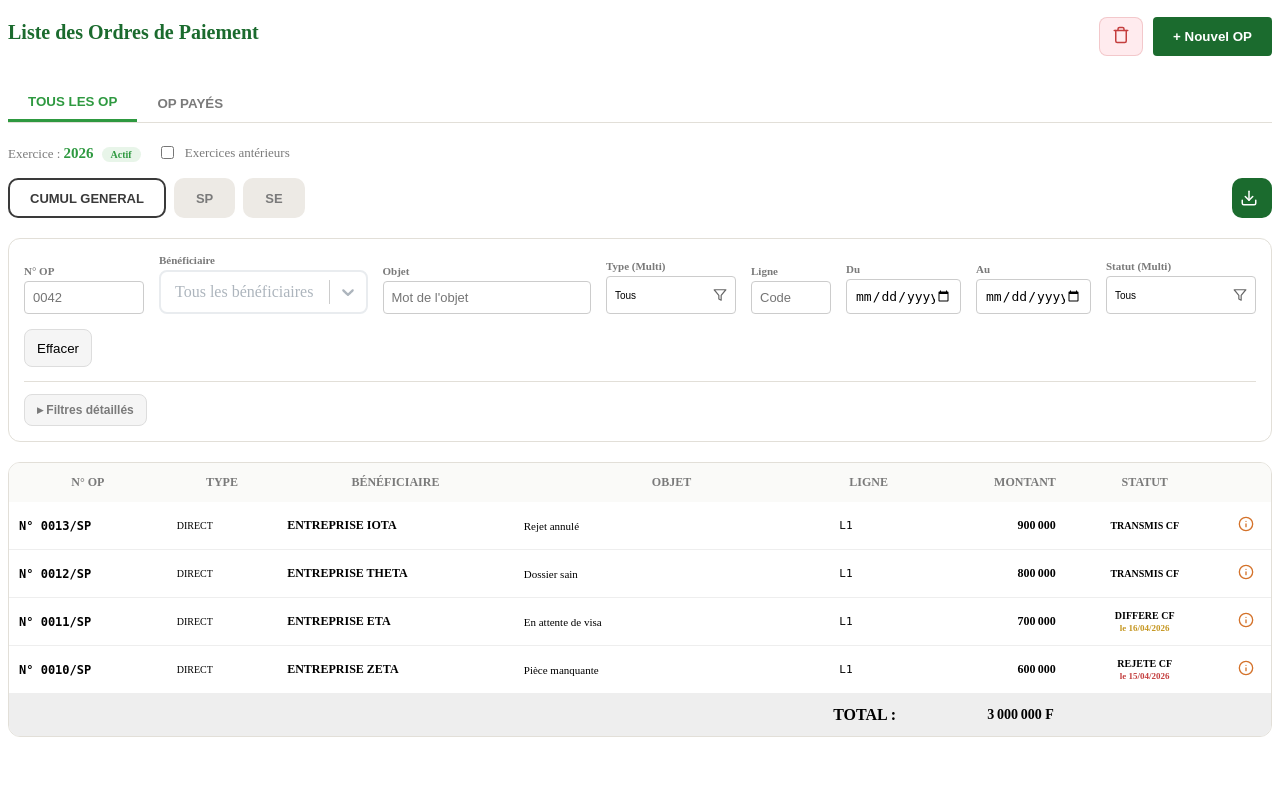
it: Liste OP — la date du rejet et du différé › le suivi détaillé montre la trace d'un rejet annulé
The image size is (1280, 800).
Click the button titled "Suivi détaillé".
click(1246, 526)  # box [1234, 512, 1258, 539]
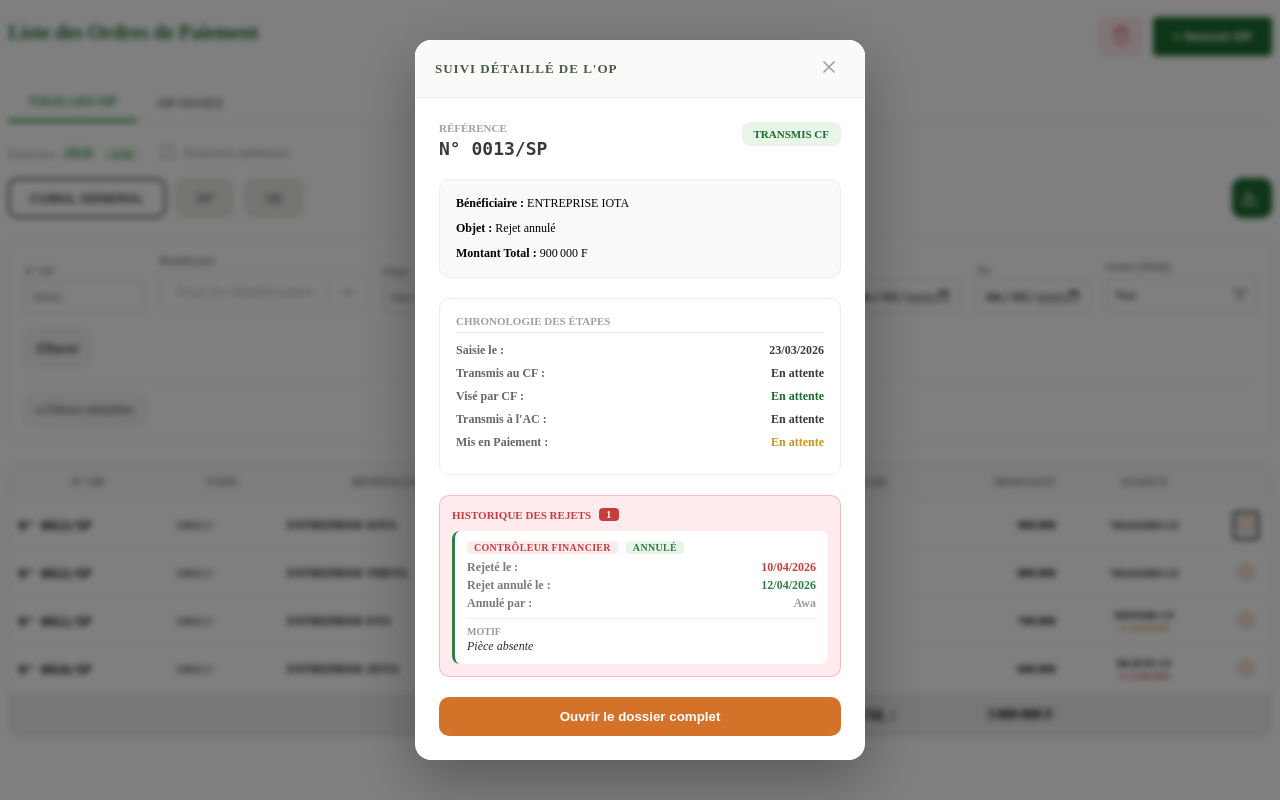
Check: the text "HISTORIQUE DES REJETS" is shown, box [452, 508, 591, 520]
Check: the text "Pièce absente" is shown, box [467, 639, 533, 653]
Check: the text "10/04/2026" is shown, box [761, 560, 816, 575]
